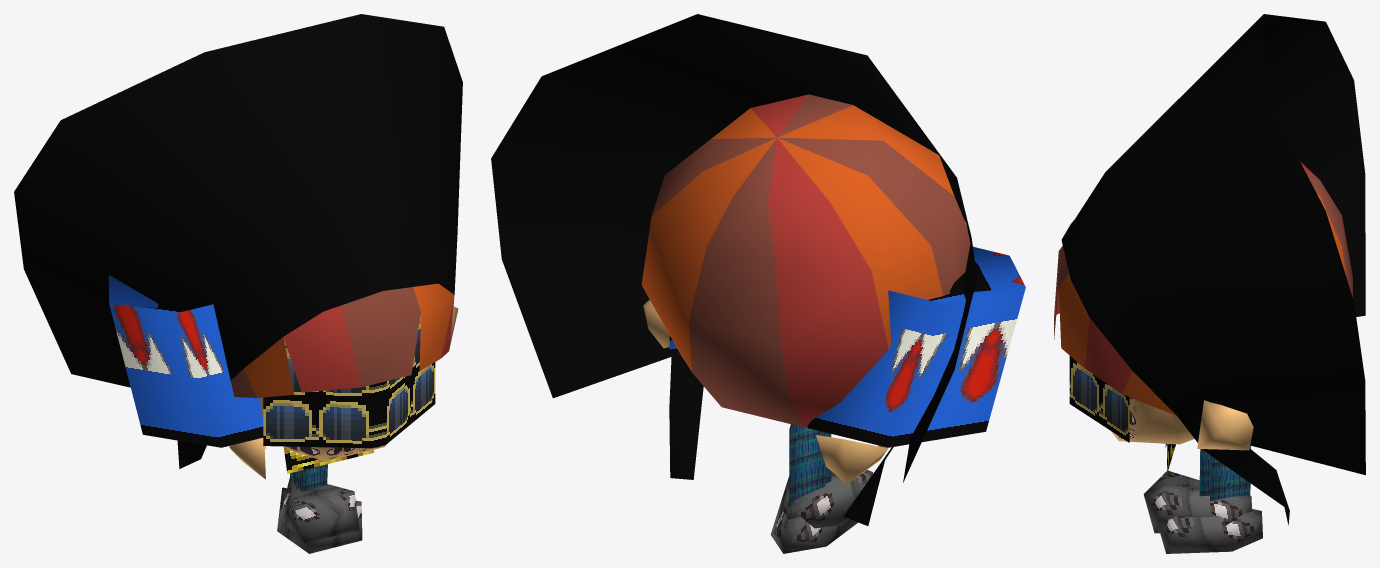
The picture shows the model from 3 angles, left to right: view 1: azimuth 30°, elevation 25°; view 2: azimuth 150°, elevation 25°; view 3: azimuth 270°, elevation 25°; orthographic projection. The views are drawn at different scales.
Visible parts, largest first — view 1: pmd05_08_07; view 2: pmd05_08_07; view 3: pmd05_08_07.
Part boxes in pixels (x1,y1,x2,y2): pmd05_08_07: (14,14,462,553); pmd05_08_07: (491,14,1025,553); pmd05_08_07: (1054,14,1365,553).
Bounding box in the file's own units: 1.7 × 1.74 × 1.01.
Materials: 9 (9 with a texture image).
